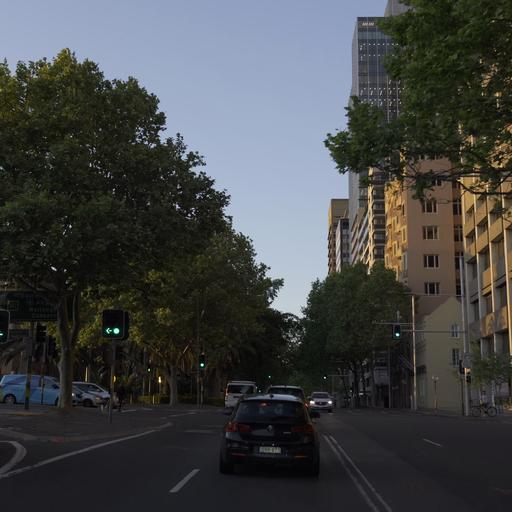Street light: (100, 307, 127, 423), (101, 308, 126, 339), (0, 307, 9, 344), (431, 374, 439, 410), (392, 323, 400, 339), (198, 352, 205, 368)
